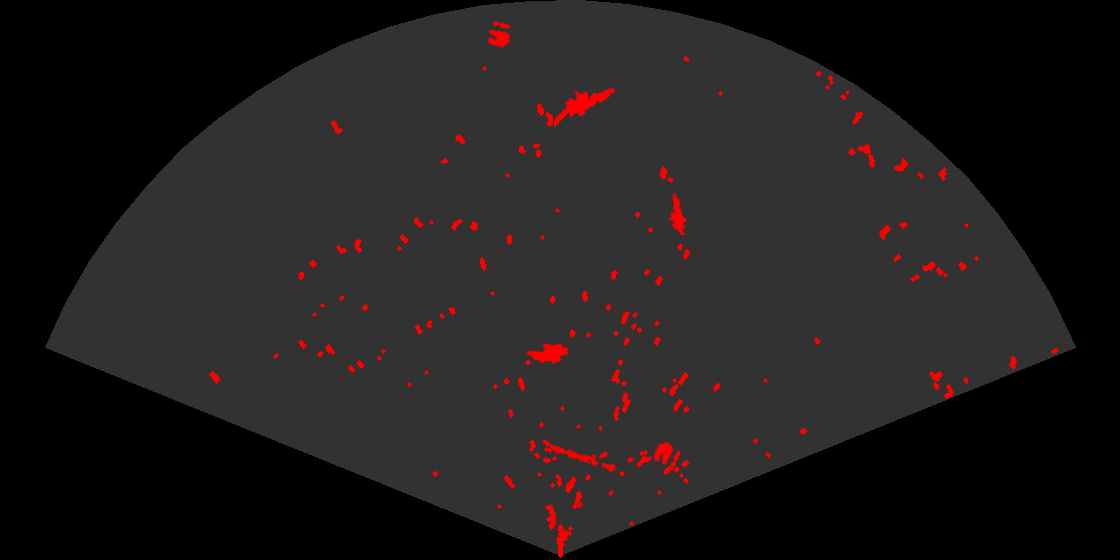AUV: (524, 342, 571, 366)
ball: (652, 440, 682, 469), (486, 20, 512, 49)
chain: (541, 438, 618, 474)
frogman: (554, 86, 617, 129), (667, 190, 688, 235)
